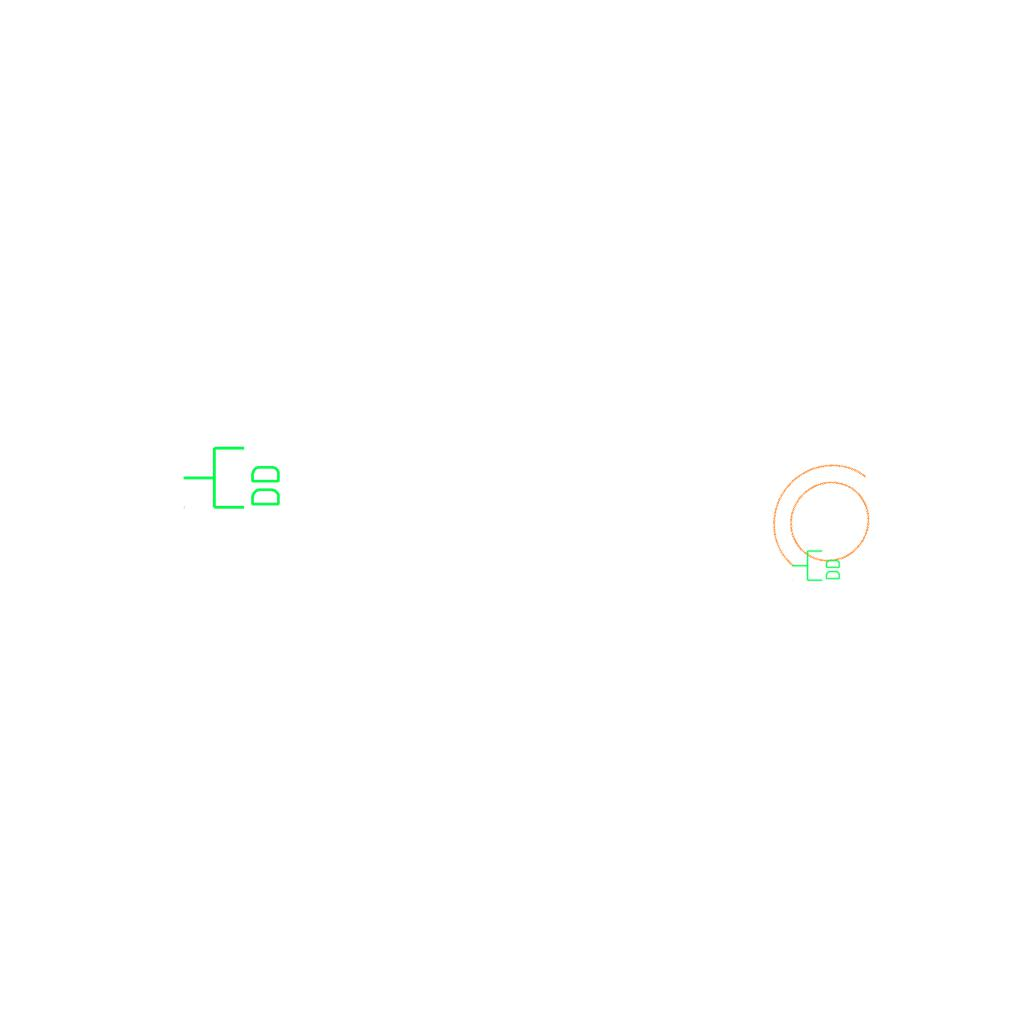Datenanschluss_zweifach: (181, 444, 284, 513), (791, 549, 842, 583)
Scheinwerfer_fuer_Alarmbeleuchtung: (738, 434, 910, 608)
